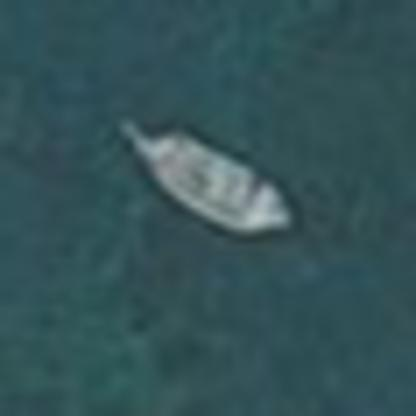ship: (109, 99, 308, 253)
